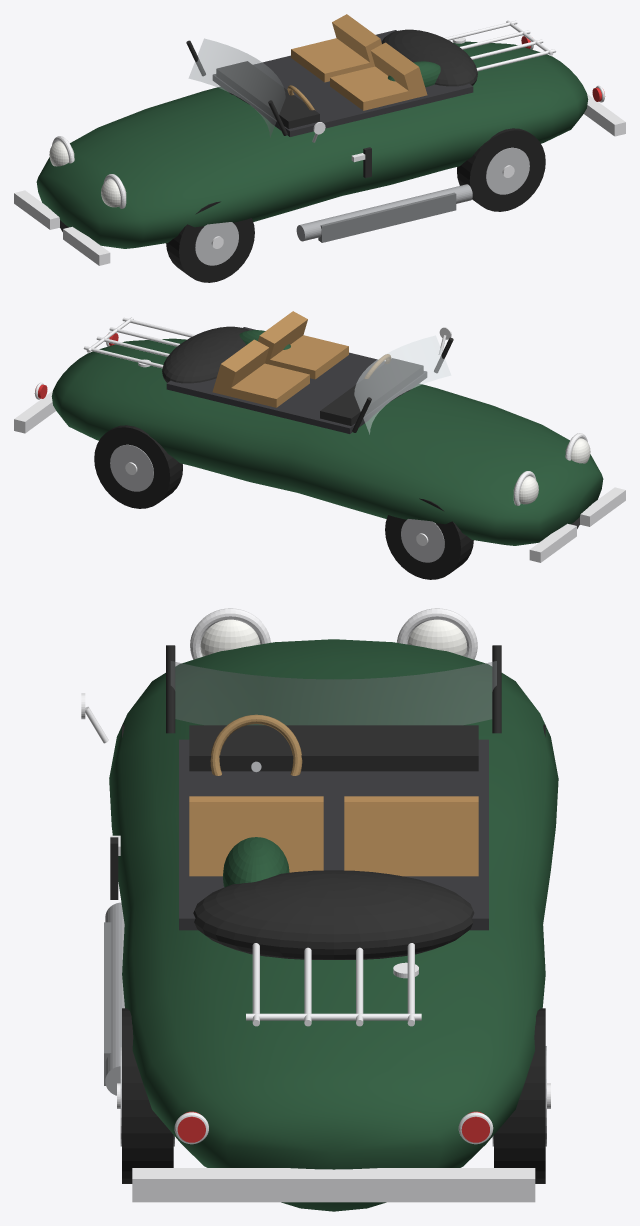
File: jaguar-xkss-1957-muse.glb
3 views of the same model, one above another, from view 1: azimuth 30°, elevation 25°; view 2: azimuth 150°, elevation 25°; view 3: azimuth 270°, elevation 25° (orthographic). The views are drawn at different scales.
Parts seen in each view (by area): view 1: Body, CockpitOpening, ShieldGlass, Tire.002, Dash, TopBoot, Tire, HeatShield, SeatBase, SeatBase.001, SeatBack, Exhaust (+9 smaller); view 2: Body, CockpitOpening, ShieldGlass, Tire.003, TopBoot, Dash, Tire.001, SeatBase.001, SeatBase, SeatBack.001, Rim.003, Rim.001 (+6 smaller); view 3: Body, TopBoot, ShieldGlass, CockpitOpening, RBumper, Dash, SeatBack.001, SeatBack, Tire.003, Tire.002, Exhaust, Headrest (+11 smaller).
Part boxes in pixels (x1,y1,x2,y2): Body: (36,41,588,248); CockpitOpening: (212,30,473,136); ShieldGlass: (188,38,285,137); Tire.002: (457,128,545,211); Dash: (216,61,319,128); TopBoot: (381,29,477,86); Tire: (166,201,254,282); HeatShield: (318,192,456,242); SeatBase: (330,66,410,110); SeatBase.001: (291,38,375,82); SeatBack: (371,42,427,98); Exhaust: (296,184,472,241); Body: (51,338,603,545); CockpitOpening: (166,327,427,433); ShieldGlass: (354,335,451,434); Tire.003: (94,425,182,508); TopBoot: (162,326,249,383); Dash: (320,358,423,425); Tire.001: (385,498,473,579); SeatBase.001: (223,363,309,407); SeatBase: (264,335,348,379); SeatBack.001: (212,339,268,395); Rim.003: (110,444,153,491); Rim.001: (401,519,444,562); Body: (109,639,558,1211); TopBoot: (193,870,474,959); ShieldGlass: (170,661,496,725); CockpitOpening: (179,739,488,930); RBumper: (132,1168,535,1202); Dash: (189,725,478,771); SeatBack.001: (344,802,478,876); SeatBack: (189,802,323,876); Tire.003: (494,1008,545,1183); Tire.002: (122,1008,173,1183); Exhaust: (105,902,124,1095); Headrest: (223,837,289,887).
Size of what is drawn, in the model's own units: 4.64 by 1.33 by 1.85.
